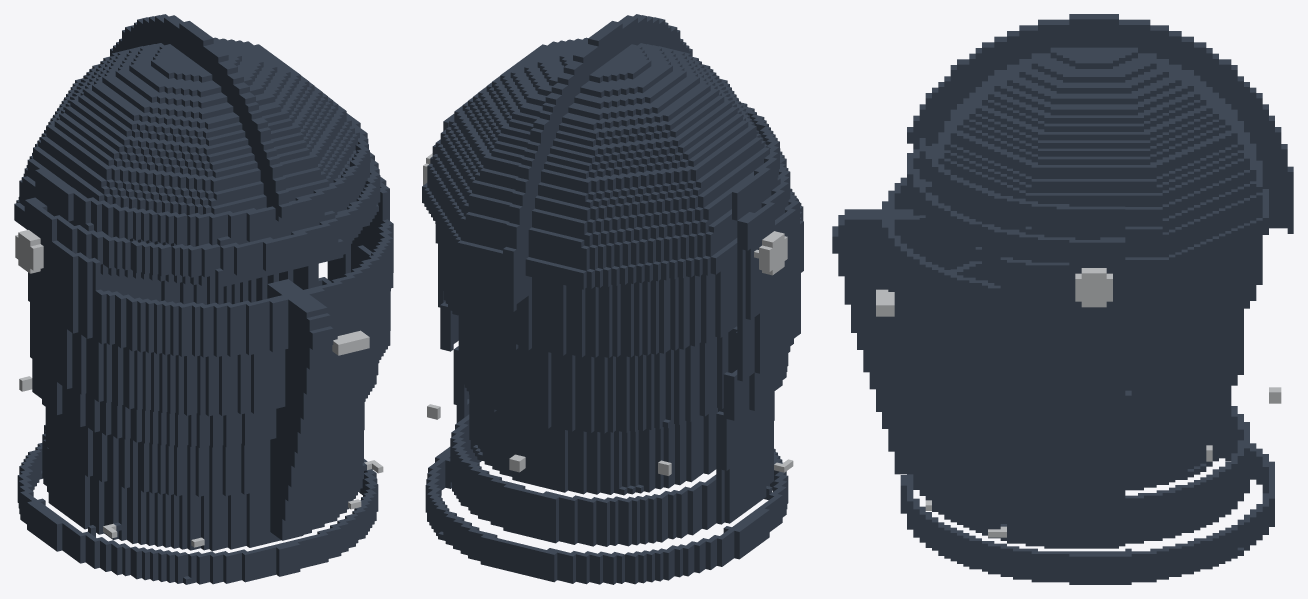
The model's file is hc_helm_close.glb.
3 renders of one model, left to right at view 1: azimuth 30°, elevation 25°; view 2: azimuth 150°, elevation 25°; view 3: azimuth 270°, elevation 25°, orthographic. The views are drawn at different scales.
Parts seen in each view (by area): view 1: hc_helm_close:compound; view 2: hc_helm_close:compound; view 3: hc_helm_close:compound.
Boxes of the visible parts, <box> form: hc_helm_close:compound: <box>14,14,393,584</box>; hc_helm_close:compound: <box>422,14,803,584</box>; hc_helm_close:compound: <box>832,14,1293,584</box>.
Size of the model in its own units: 0.264 by 0.348 by 0.296.
